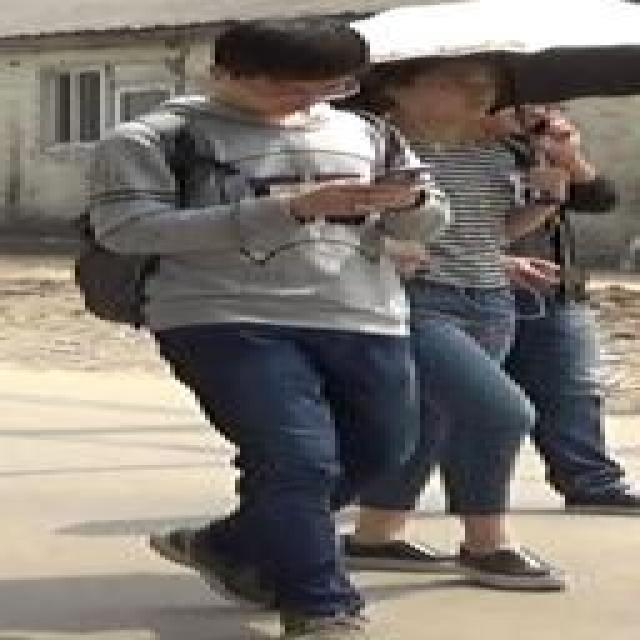adult: (80, 14, 442, 626), (380, 58, 548, 591)
